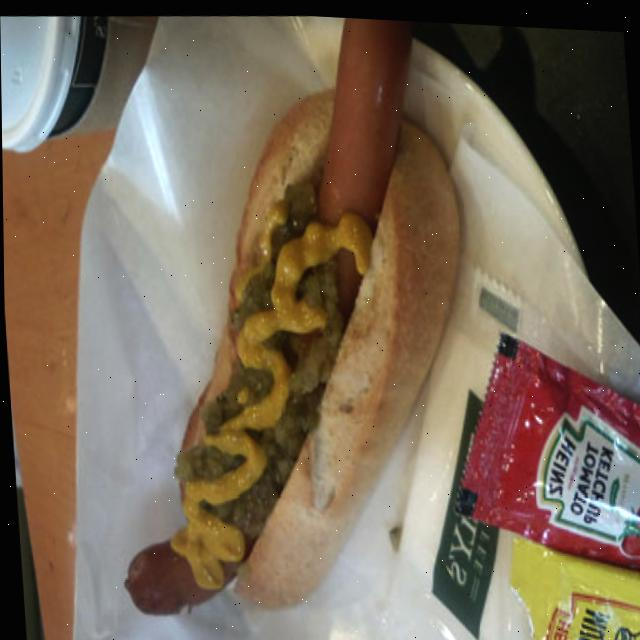汉堡快餐: (95, 79, 466, 621)
